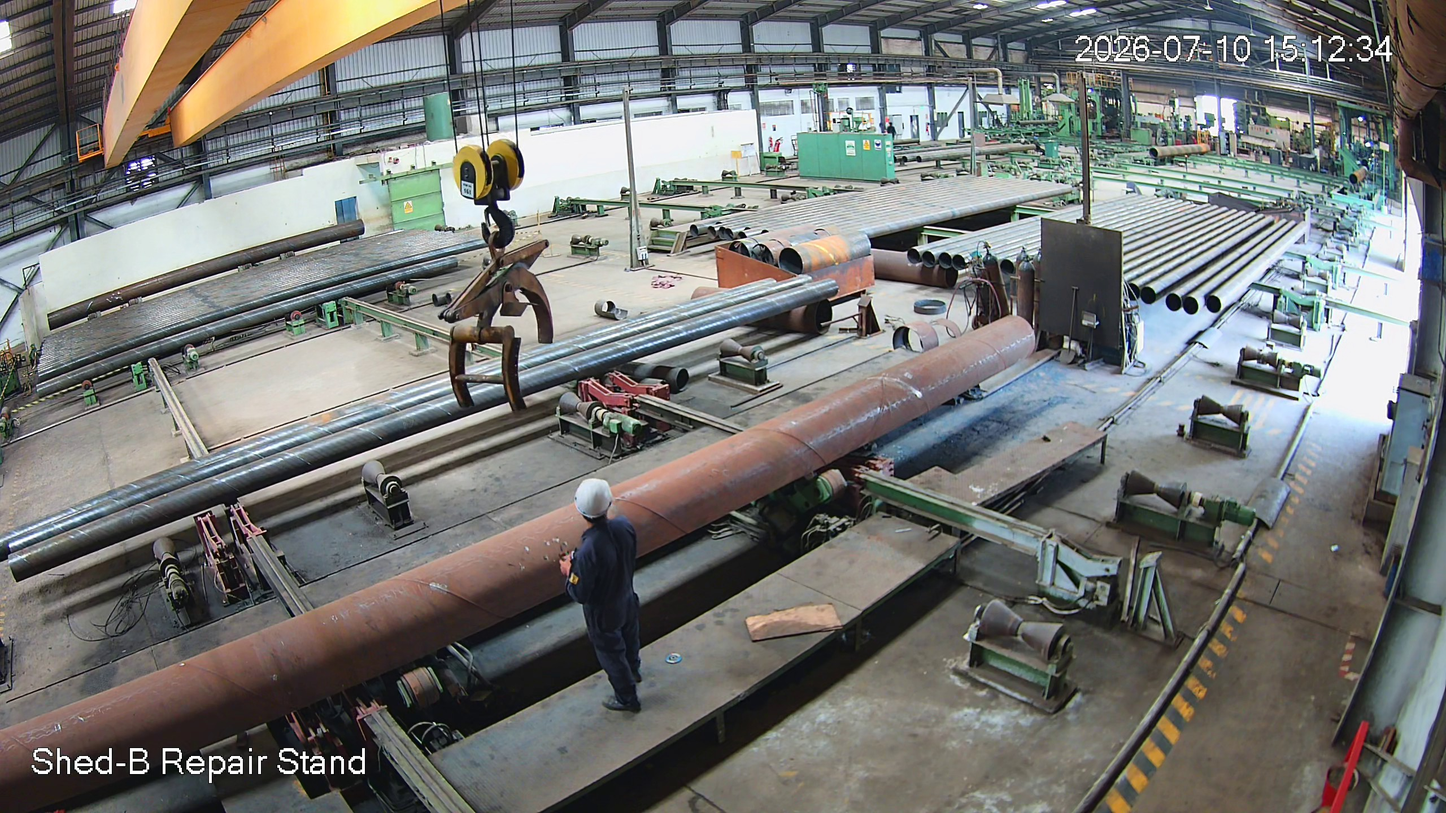Helmet: (566, 473, 636, 544)
Person: (545, 483, 659, 712)
